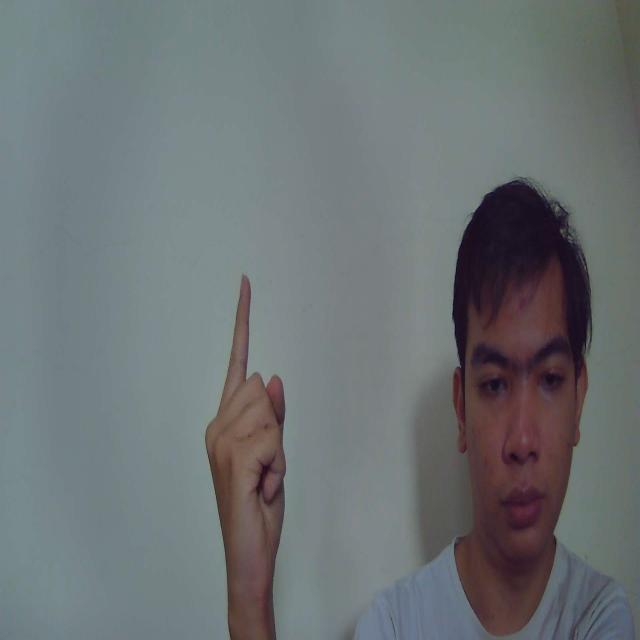D: (204, 274, 288, 590)
